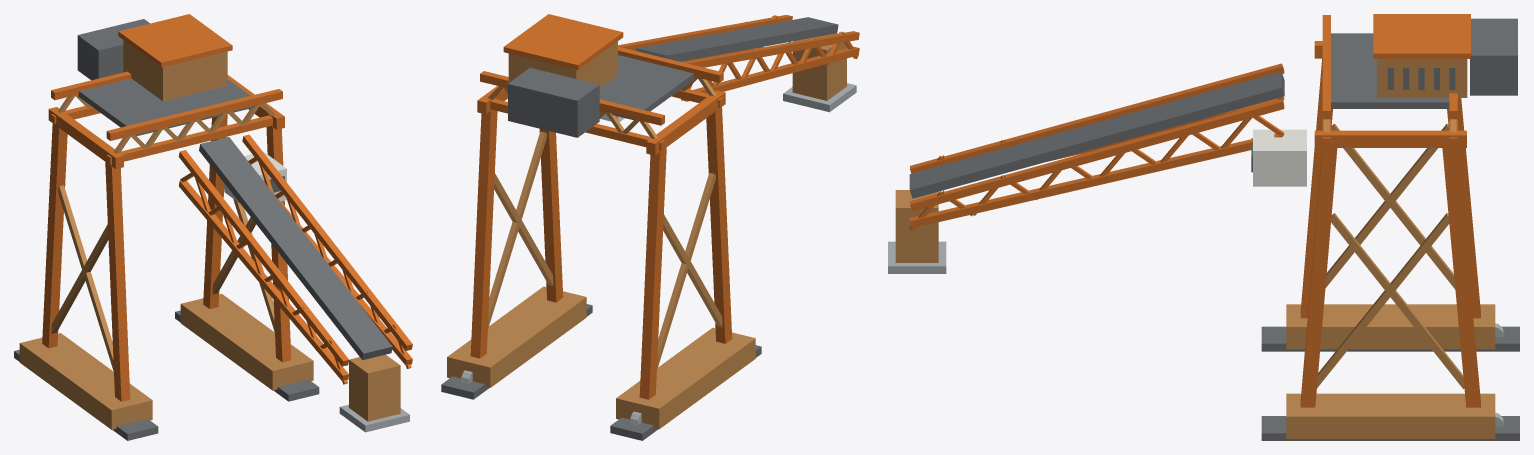
The model's file is ship-loader.glb.
3 renders of one model, left to right at view 1: azimuth 30°, elevation 25°; view 2: azimuth 150°, elevation 25°; view 3: azimuth 270°, elevation 25°, orthographic. The views are drawn at different scales.
Parts seen in each view (by area): view 1: ShipLoader; view 2: ShipLoader; view 3: ShipLoader.
Part boxes in pixels (box(x1,y1,x2,y2)): ShipLoader: box(14, 14, 412, 440); ShipLoader: box(441, 14, 859, 440); ShipLoader: box(888, 14, 1519, 440).
Bounding box in the file's own units: 4.32 × 6.64 × 10.28.
